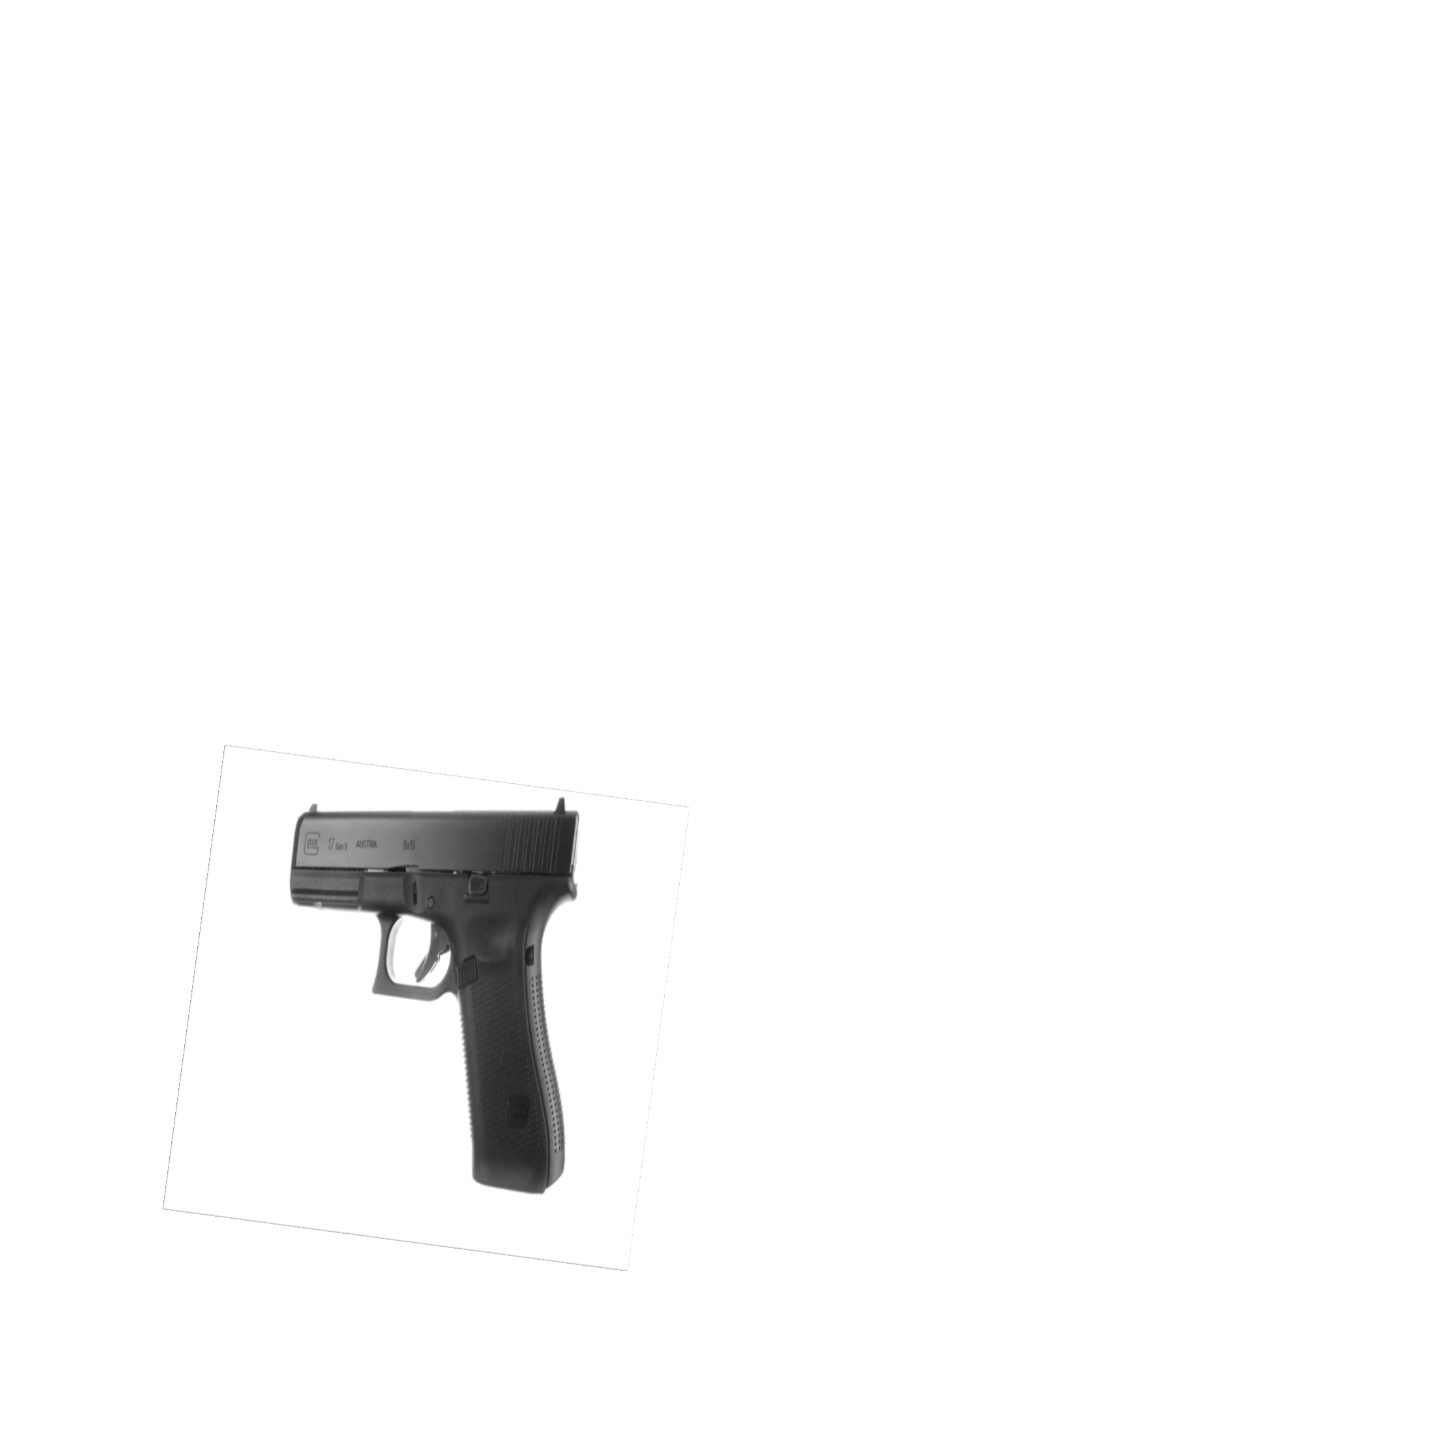gun: (292, 791, 575, 1194)
